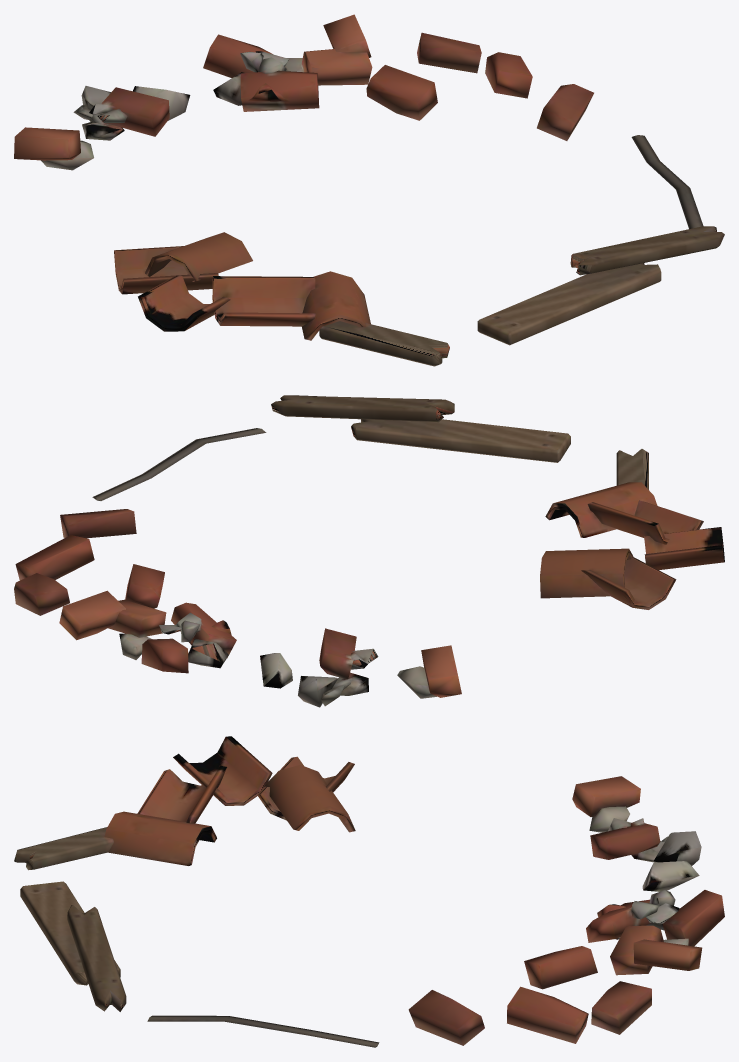
The model's file is rough-town-2.low.glb.
3 renders of one model, top to bottom at view 1: azimuth 30°, elevation 25°; view 2: azimuth 150°, elevation 25°; view 3: azimuth 270°, elevation 25°, orthographic. The views are drawn at different scales.
Visible parts, largest first — view 1: rough-town-2; view 2: rough-town-2; view 3: rough-town-2.
Part boxes in pixels (x1,y1,x2,y2): rough-town-2: (14,14,724,366); rough-town-2: (14,395,724,707); rough-town-2: (14,736,724,1047).
Bounding box in the file's own units: 1.39 × 0.1129 × 1.5.
Materials: 1 (1 with a texture image).
